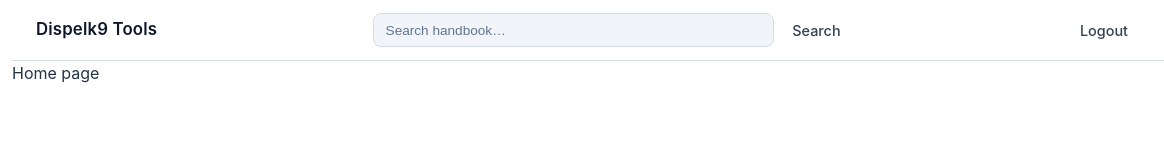
Test case: components/Navbar.tsx › navigates to the handbook search page when a query is submitted
This screenshot has width=1164, height=160.
Type "onboarding" into the search field labelled "Search handbook".
click(573, 30); type("onboarding")  # box [373,13,774,47]
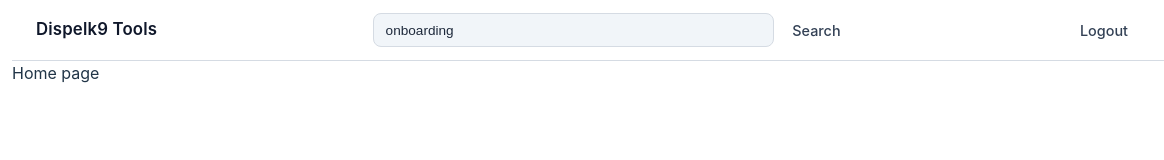
Click the button "Search".
click(816, 30)  # box [780,22,853,38]
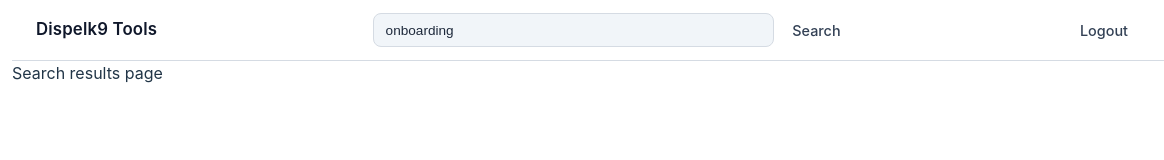
Result: the text "Search results page" is shown at [12,63,163,83]
